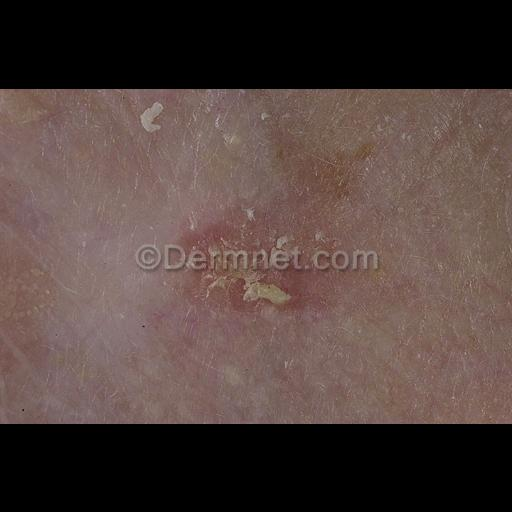Skin_Lesion: (153, 199, 333, 341), (122, 88, 180, 134)
